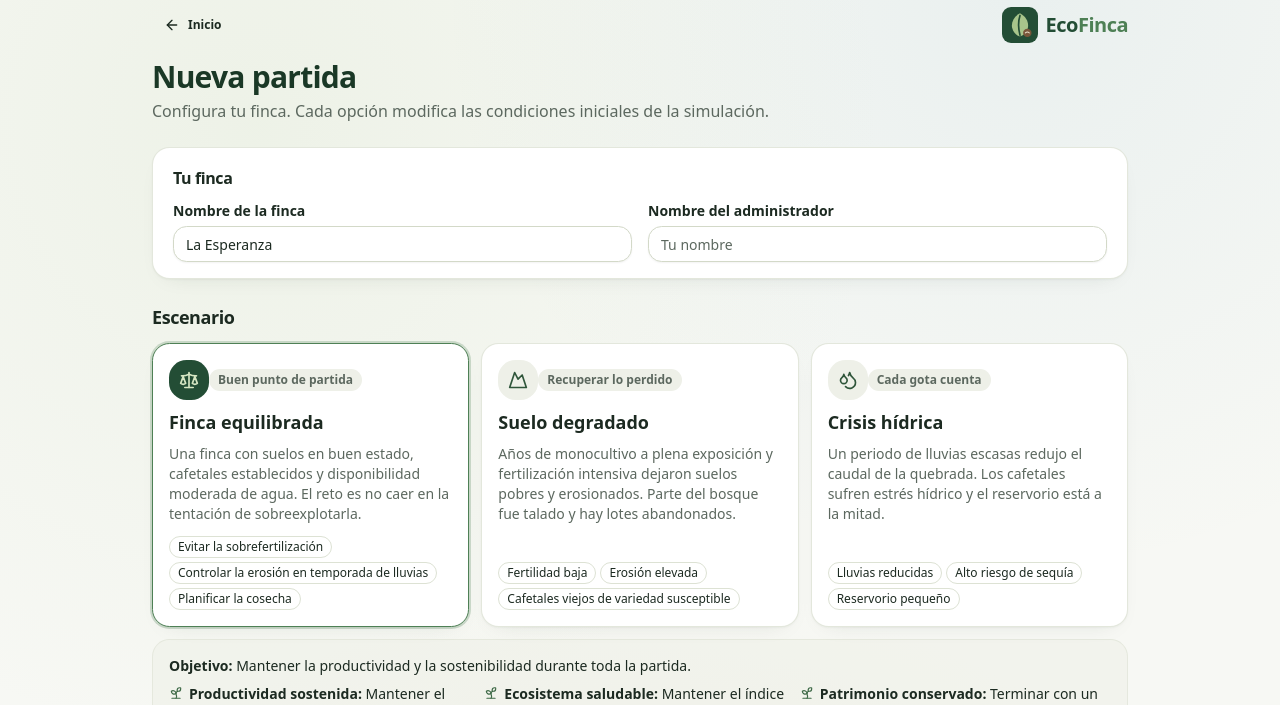
Scenario: Configuración de partida › crea una partida y abre la finca
This screenshot has width=1280, height=705.
Step 1. Type "Ana Rojas" into the field labelled "Nombre del administrador" → (878, 244), box 648,226 -> 1107,262
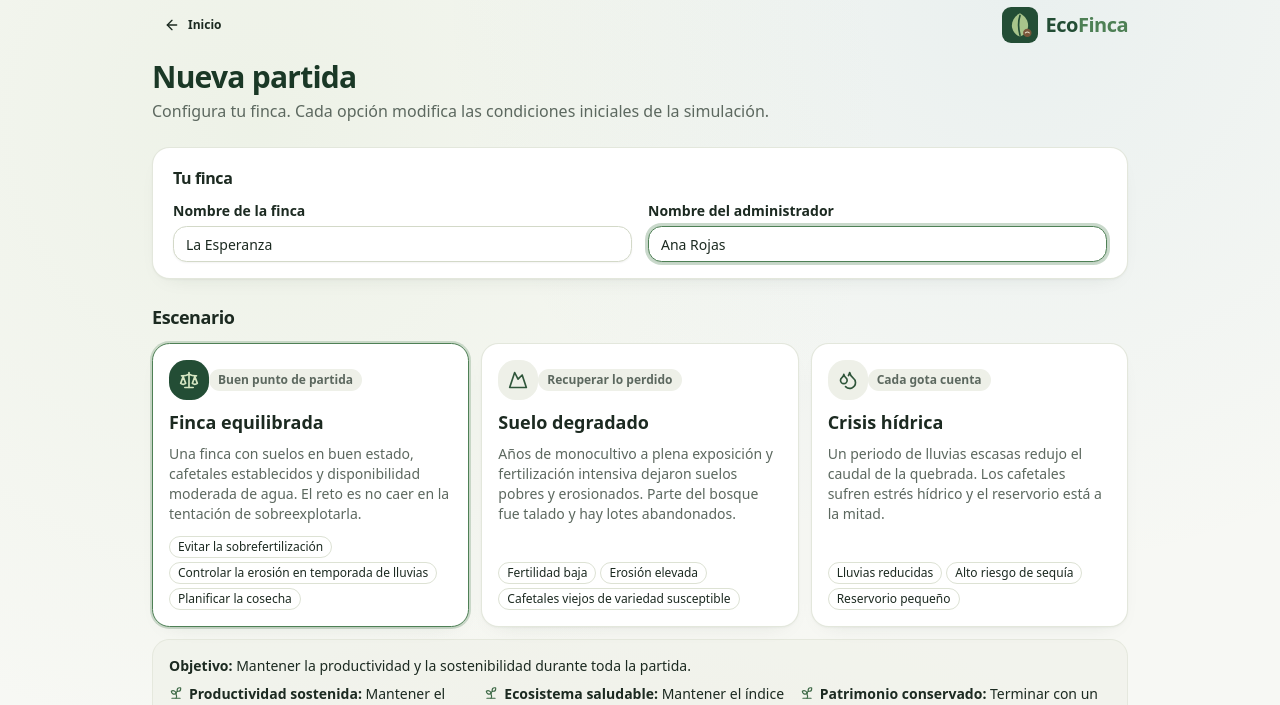
Step 2. Click the radio button labelled "Crisis hídrica" → (969, 485), box 811,343 -> 1128,627
(page scrolled)
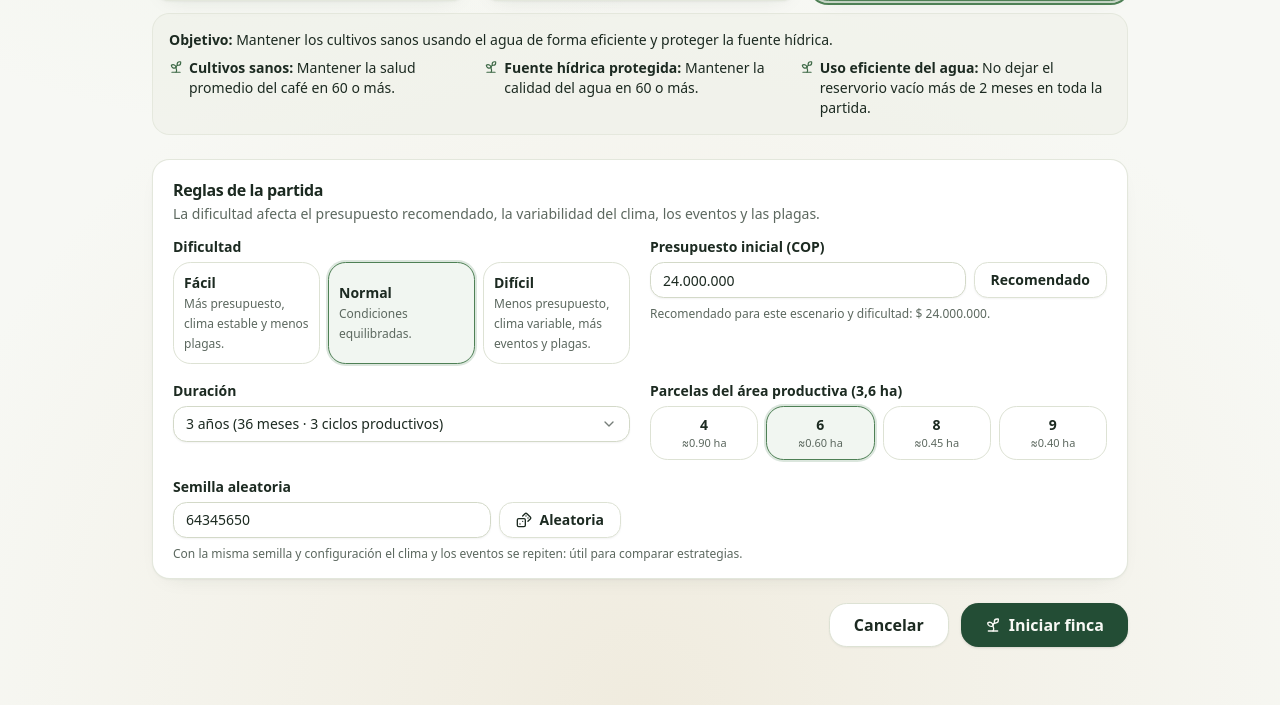
Step 3. Click the button with test id "start-game" → (1044, 625), box 961,603 -> 1128,647
(page scrolled)
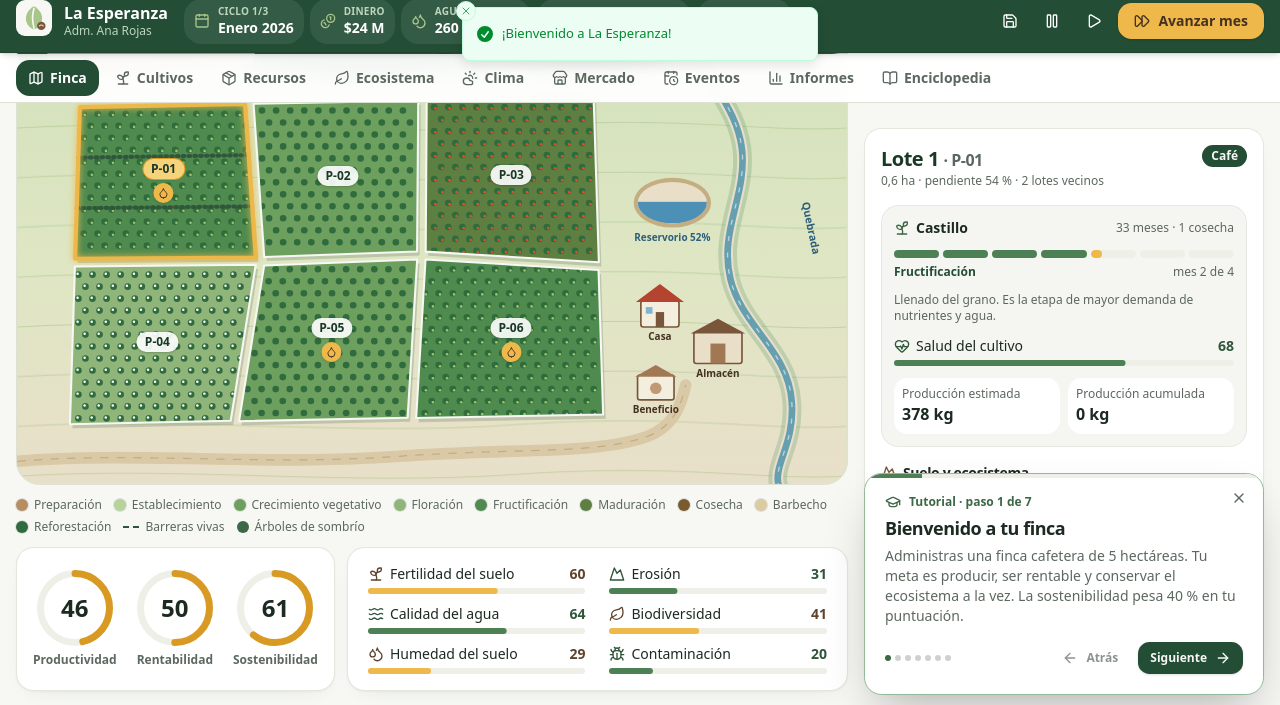
Expected: the button with test id "advance-month" is shown, 1118,3 -> 1264,39
